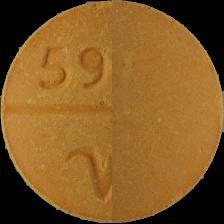0603-5801: (0, 0, 224, 224)
